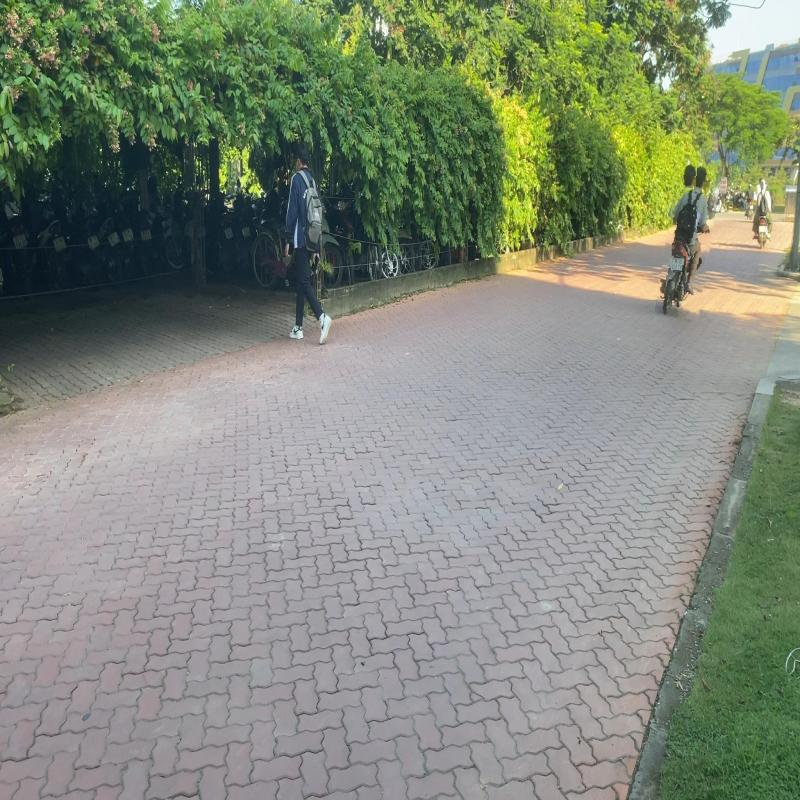licenseplate: (671, 256, 686, 272)
motorcyclist: (660, 161, 717, 320)
nohelmet: (682, 162, 698, 188)
